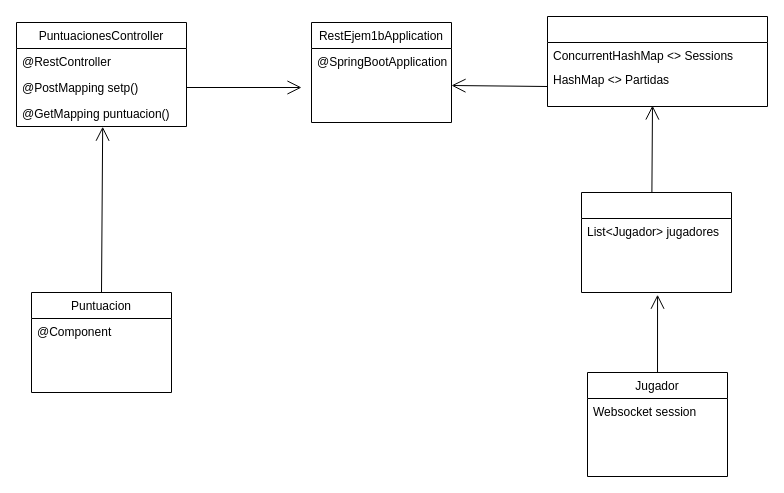
The diagram is 784 pixels wide and 493 high, and some of its shapes have lost their labels. Each missing label, with the box of its shape:
Pacman: (546, 16, 768, 106)
Partida: (580, 192, 732, 292)
